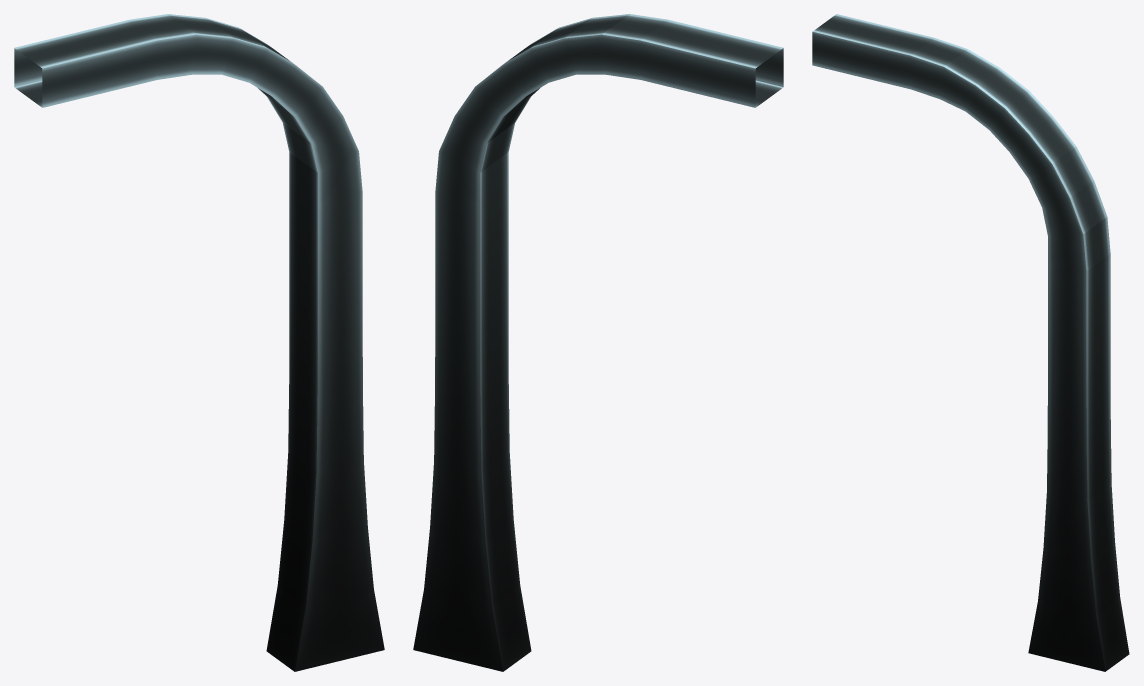
3 views of the same model, side by side, from view 1: azimuth 30°, elevation 25°; view 2: azimuth 150°, elevation 25°; view 3: azimuth 330°, elevation 25° (orthographic). The views are drawn at different scales.
Parts seen in each view (by area): view 1: BasketDown; view 2: BasketDown; view 3: BasketDown.
Boxes of the visible parts, left/top/right/bottom form: BasketDown: left=14, top=14, right=384, bottom=671; BasketDown: left=413, top=14, right=783, bottom=671; BasketDown: left=812, top=14, right=1129, bottom=671.
Bounding box in the file's own units: 263 × 37.69 × 489.
1 material, 1 textured.
